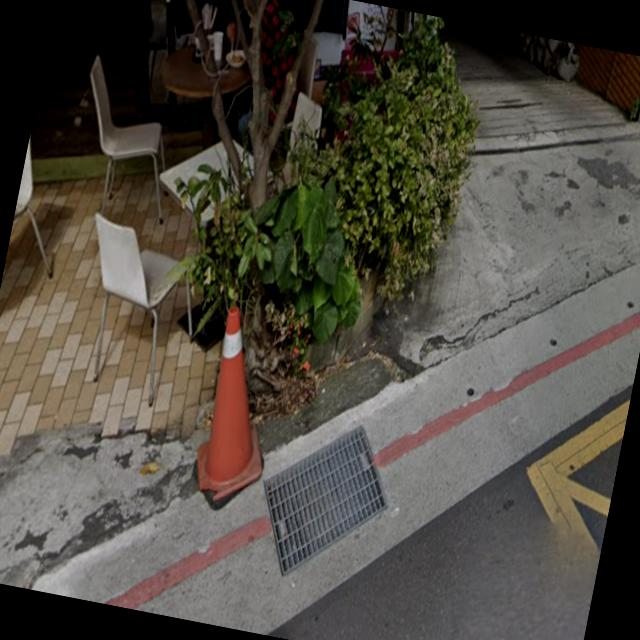cone: (168, 268, 302, 530)
